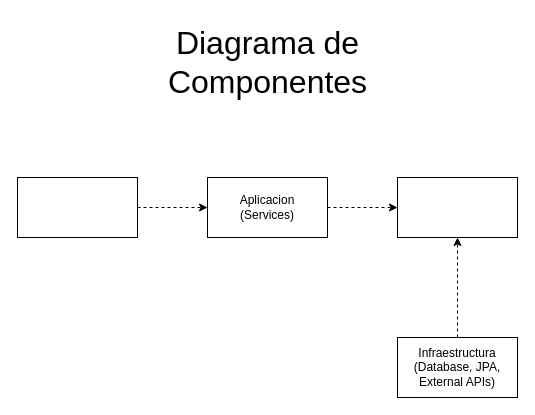
Some shapes in this 535 by 415 pixel diagram are drawn without their labels. Here are the shapes that lost their labels. From the top down, the centre of each, then its label:
At (x=77, y=207): "Interfaz (Controllers)".
At (x=457, y=207): "Dominio (Entities, Repositories)".
